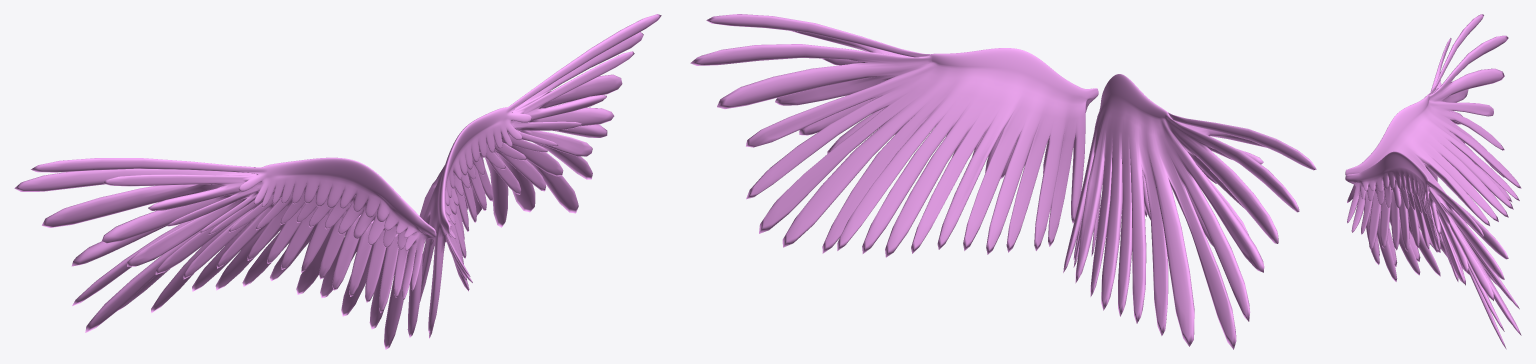
Rendered from FRAGMENT_EVEIL.glb.
3 views of the same model, side by side, from view 1: azimuth 30°, elevation 25°; view 2: azimuth 150°, elevation 25°; view 3: azimuth 270°, elevation 25° (orthographic). The views are drawn at different scales.
Visible parts, largest first — view 1: pCube1_0_4_7; view 2: pCube1_0_4_7; view 3: pCube1_0_4_7.
Part boxes in pixels (<box>): pCube1_0_4_7: <box>14,14,661,349</box>; pCube1_0_4_7: <box>690,14,1316,349</box>; pCube1_0_4_7: <box>1345,14,1521,349</box>.
Bounding box in the file's own units: 68.61 × 22.37 × 23.11.
